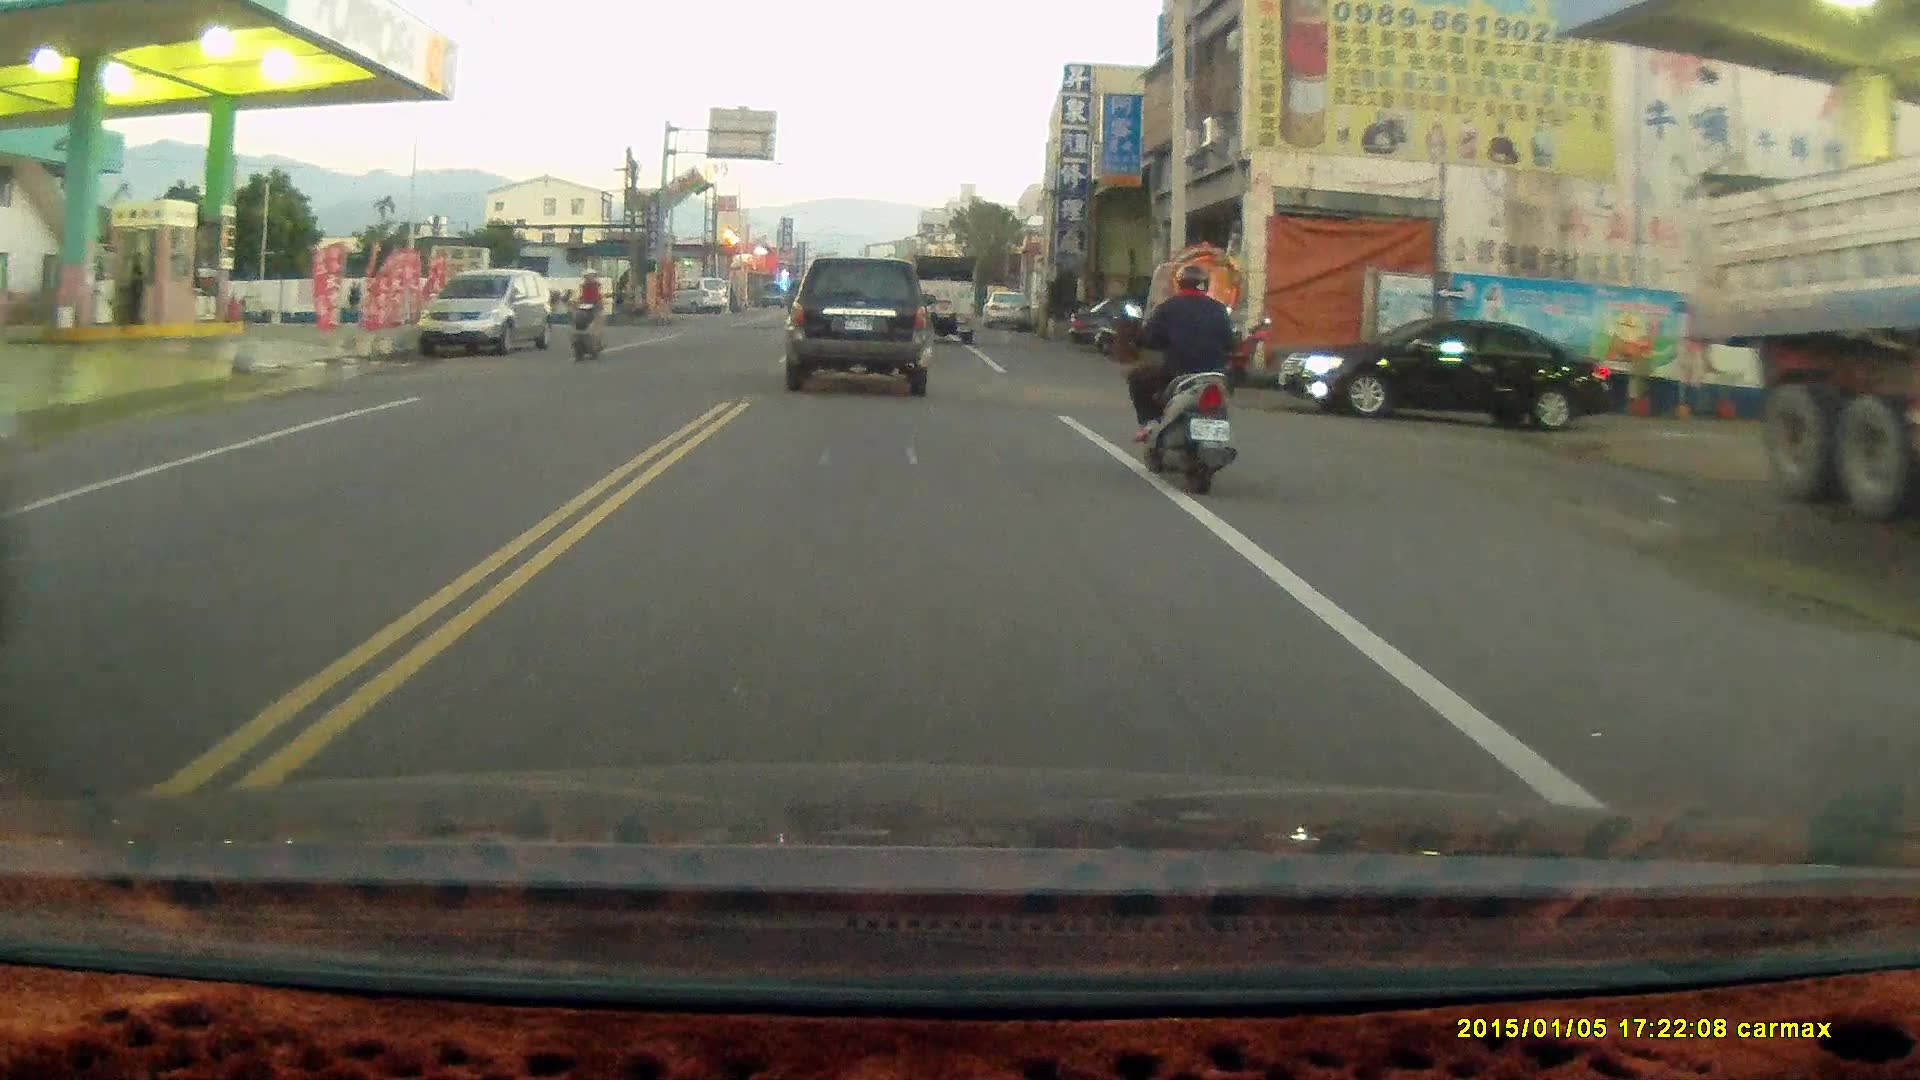rider: (1120, 265, 1233, 498), (561, 268, 603, 364)
vehicle: (1694, 127, 1920, 526), (1272, 322, 1625, 432), (790, 258, 937, 398), (418, 271, 551, 365), (893, 253, 979, 346)
